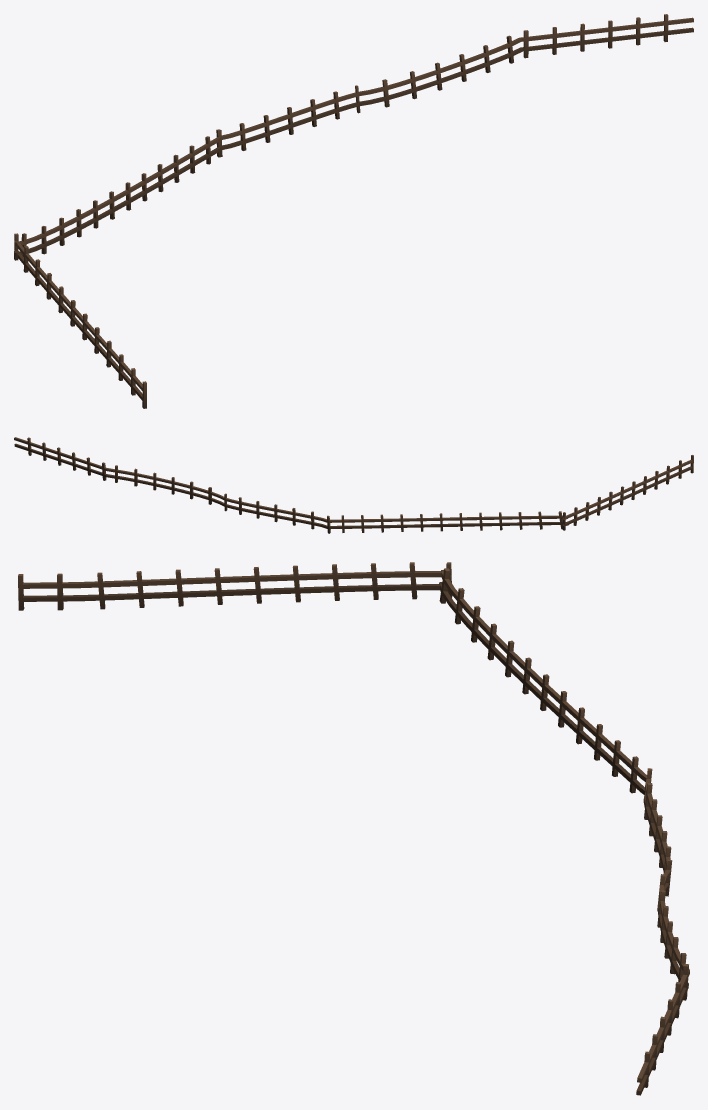
File: vallagranerocobretizo.fbx
3 renders of one model, top to bottom at view 1: azimuth 30°, elevation 25°; view 2: azimuth 150°, elevation 25°; view 3: azimuth 270°, elevation 25°, orthographic. The views are drawn at different scales.
Parts seen in each view (by area): view 1: Fance_boundary.001; view 2: Fance_boundary.001; view 3: Fance_boundary.001.
Part boxes in pixels (x1,y1,x2,y2): Fance_boundary.001: (14, 14, 693, 408); Fance_boundary.001: (14, 437, 693, 533); Fance_boundary.001: (18, 562, 689, 1095).
Bounding box in the file's own units: 3082 × 188 × 1712.
1 material, 1 textured.
